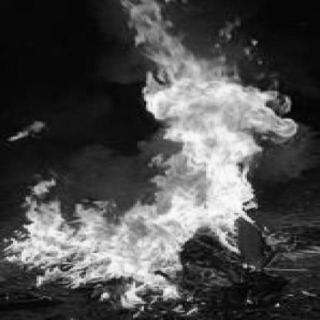Fire: (3, 2, 295, 306)
